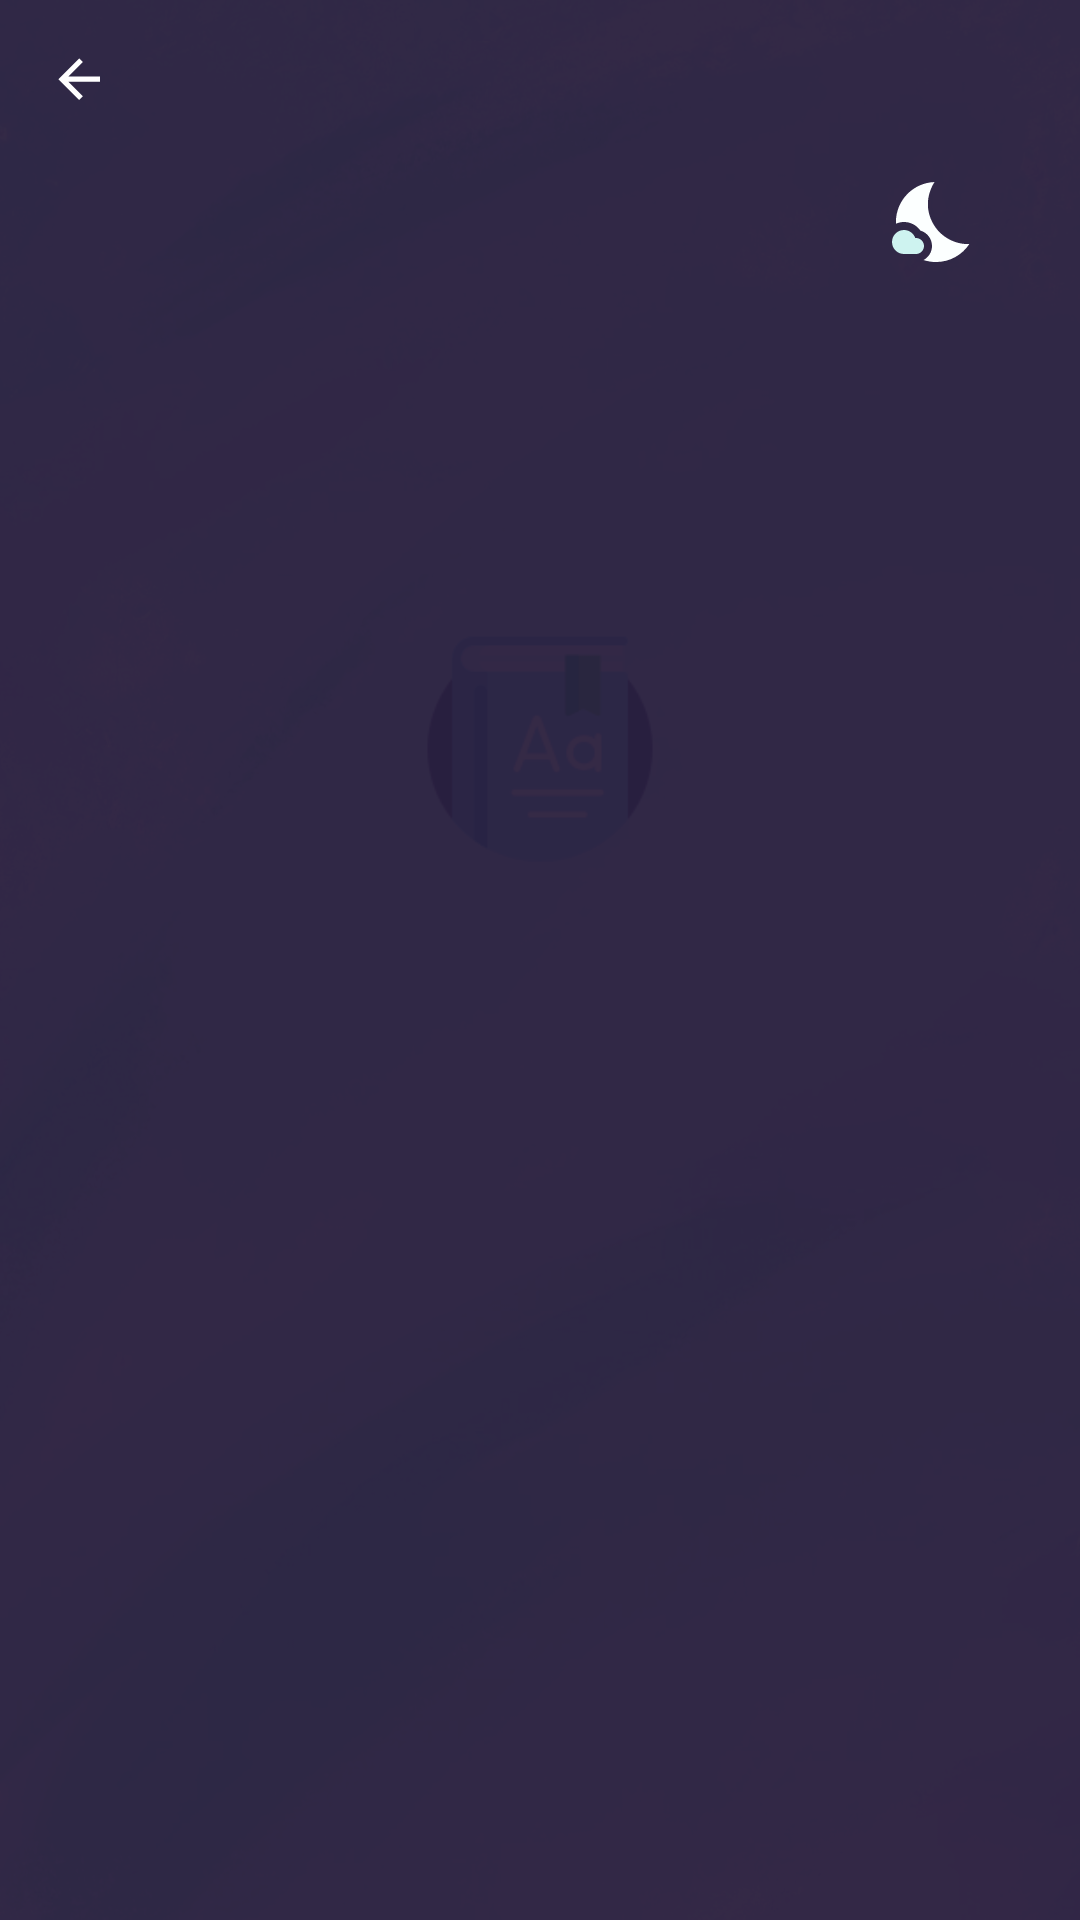

Where to tap for icons on this 1080×1920 app screen, as (x=x, y=y):
back: (x=79, y=79)
day night: (x=930, y=222)
